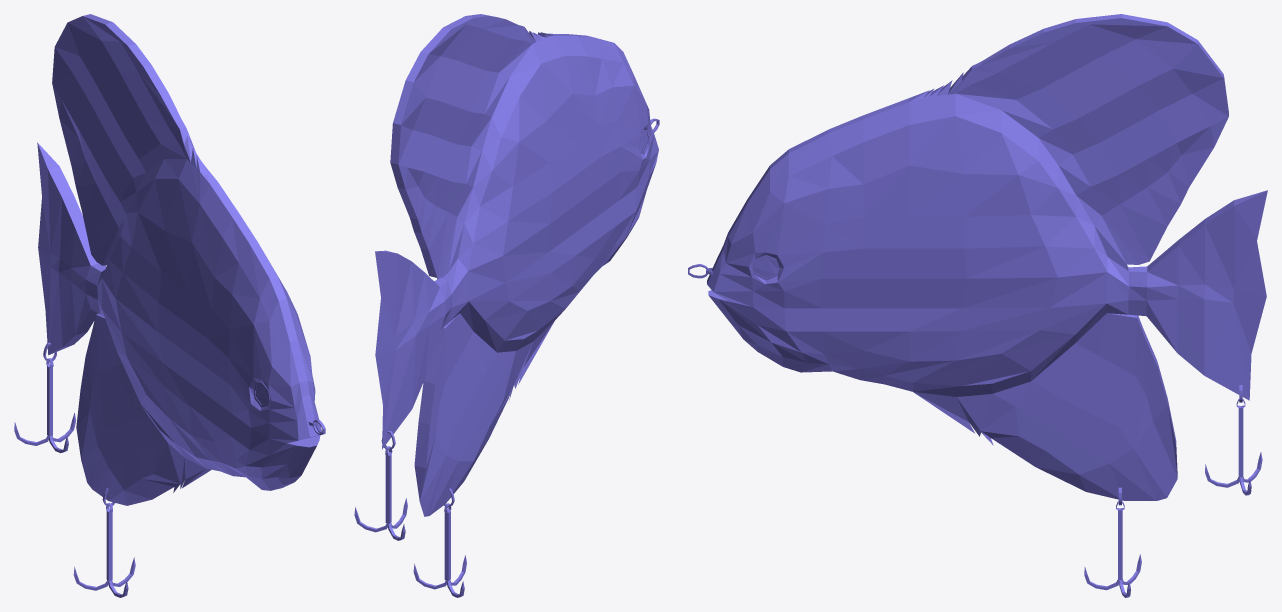
The model's file is Fishing_Bait5.fbx.
The picture shows the model from 3 angles, left to right: view 1: azimuth 30°, elevation 25°; view 2: azimuth 150°, elevation 25°; view 3: azimuth 270°, elevation 25°; orthographic projection. The views are drawn at different scales.
Visible parts, largest first — view 1: Fish; view 2: Fish; view 3: Fish.
Part boxes in pixels (<box>): Fish: <box>14,14,325,597</box>; Fish: <box>354,14,659,597</box>; Fish: <box>688,14,1267,597</box>.
Bounding box in the file's own units: 11.01 × 103 × 94.62.
